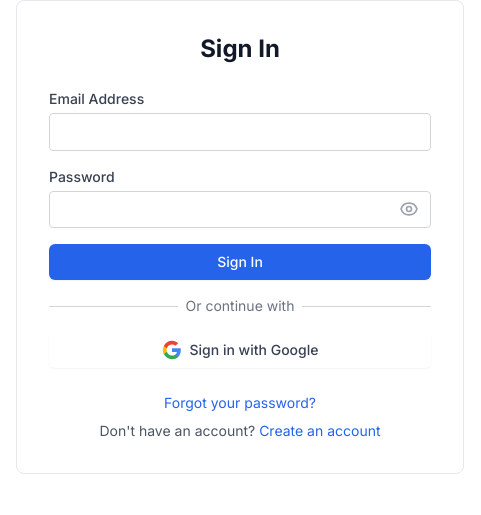
Test: LoginForm › should require password field
Note: Enter email but no password
In the field labelled "Email Address": (240, 132) [49,113,431,151], type "test@example.com"
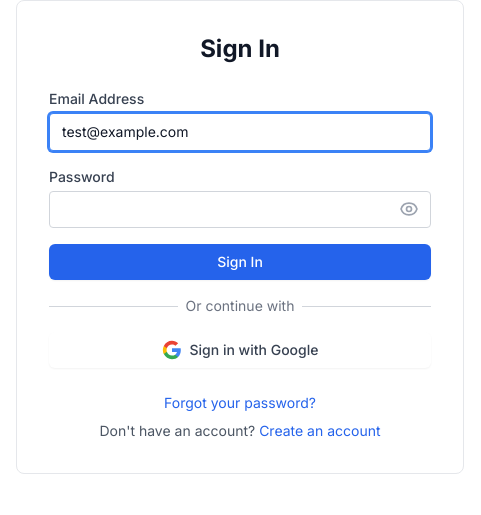
Click the button "Sign In": (240, 262) [49,244,431,280]
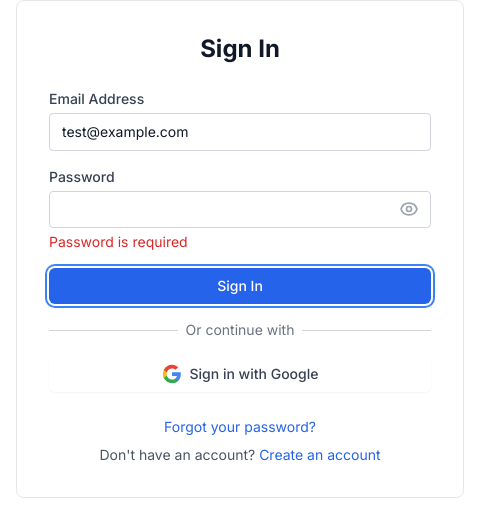
Expected: the text "Password is required" is shown, [49,233,188,250]
